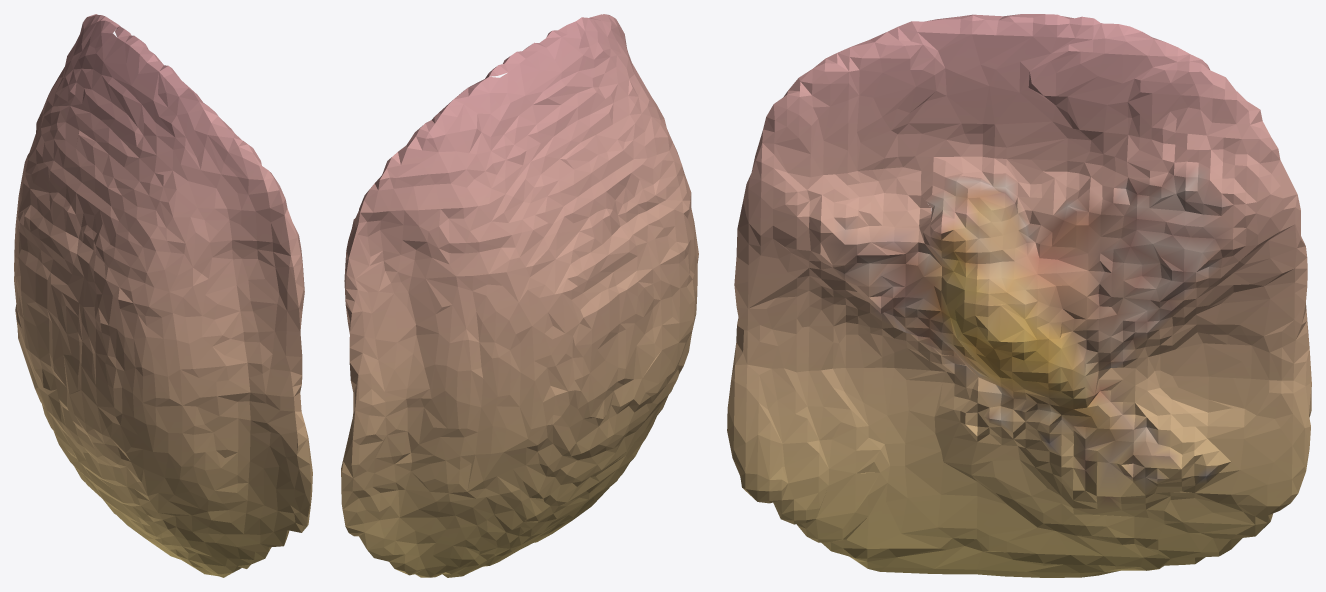
The model's file is songbird.glb.
3 views of the same model, side by side, from view 1: azimuth 30°, elevation 25°; view 2: azimuth 150°, elevation 25°; view 3: azimuth 270°, elevation 25° (orthographic). The views are drawn at different scales.
Visible parts, largest first — view 1: world; view 2: world; view 3: world.
Boxes of the visible parts, x1=… form: world: x1=14, y1=14, x2=312, y2=577; world: x1=341, y1=14, x2=698, y2=577; world: x1=727, y1=14, x2=1311, y2=577.
Bounding box in the file's own units: 0.1152 × 0.28 × 0.2663.
